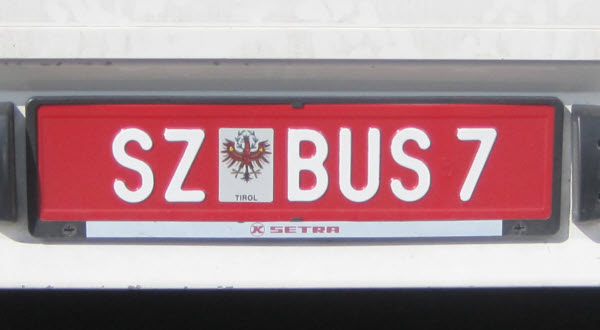license_plate: (27, 97, 562, 231)
